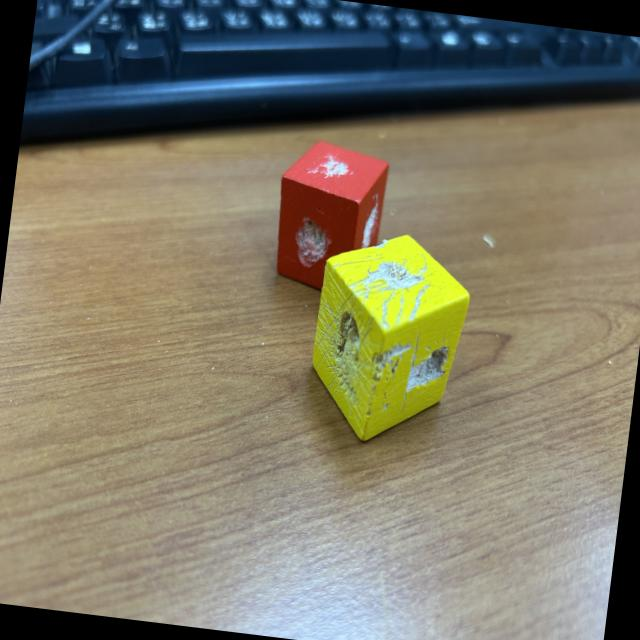broken: (302, 223, 476, 451), (268, 136, 390, 297)
